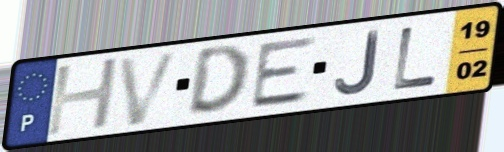D: (184, 42, 253, 118)
E: (247, 33, 320, 111)
H: (43, 54, 123, 139)
J: (332, 28, 382, 97)
L: (390, 23, 441, 93)
V: (115, 47, 184, 129)
